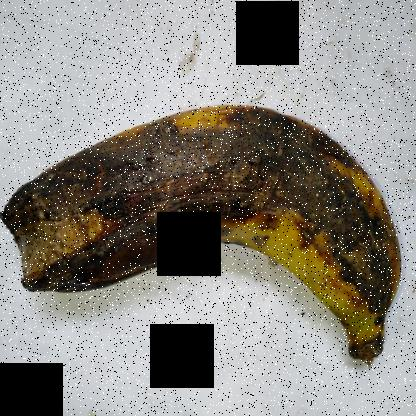rotten: (1, 110, 383, 325)
